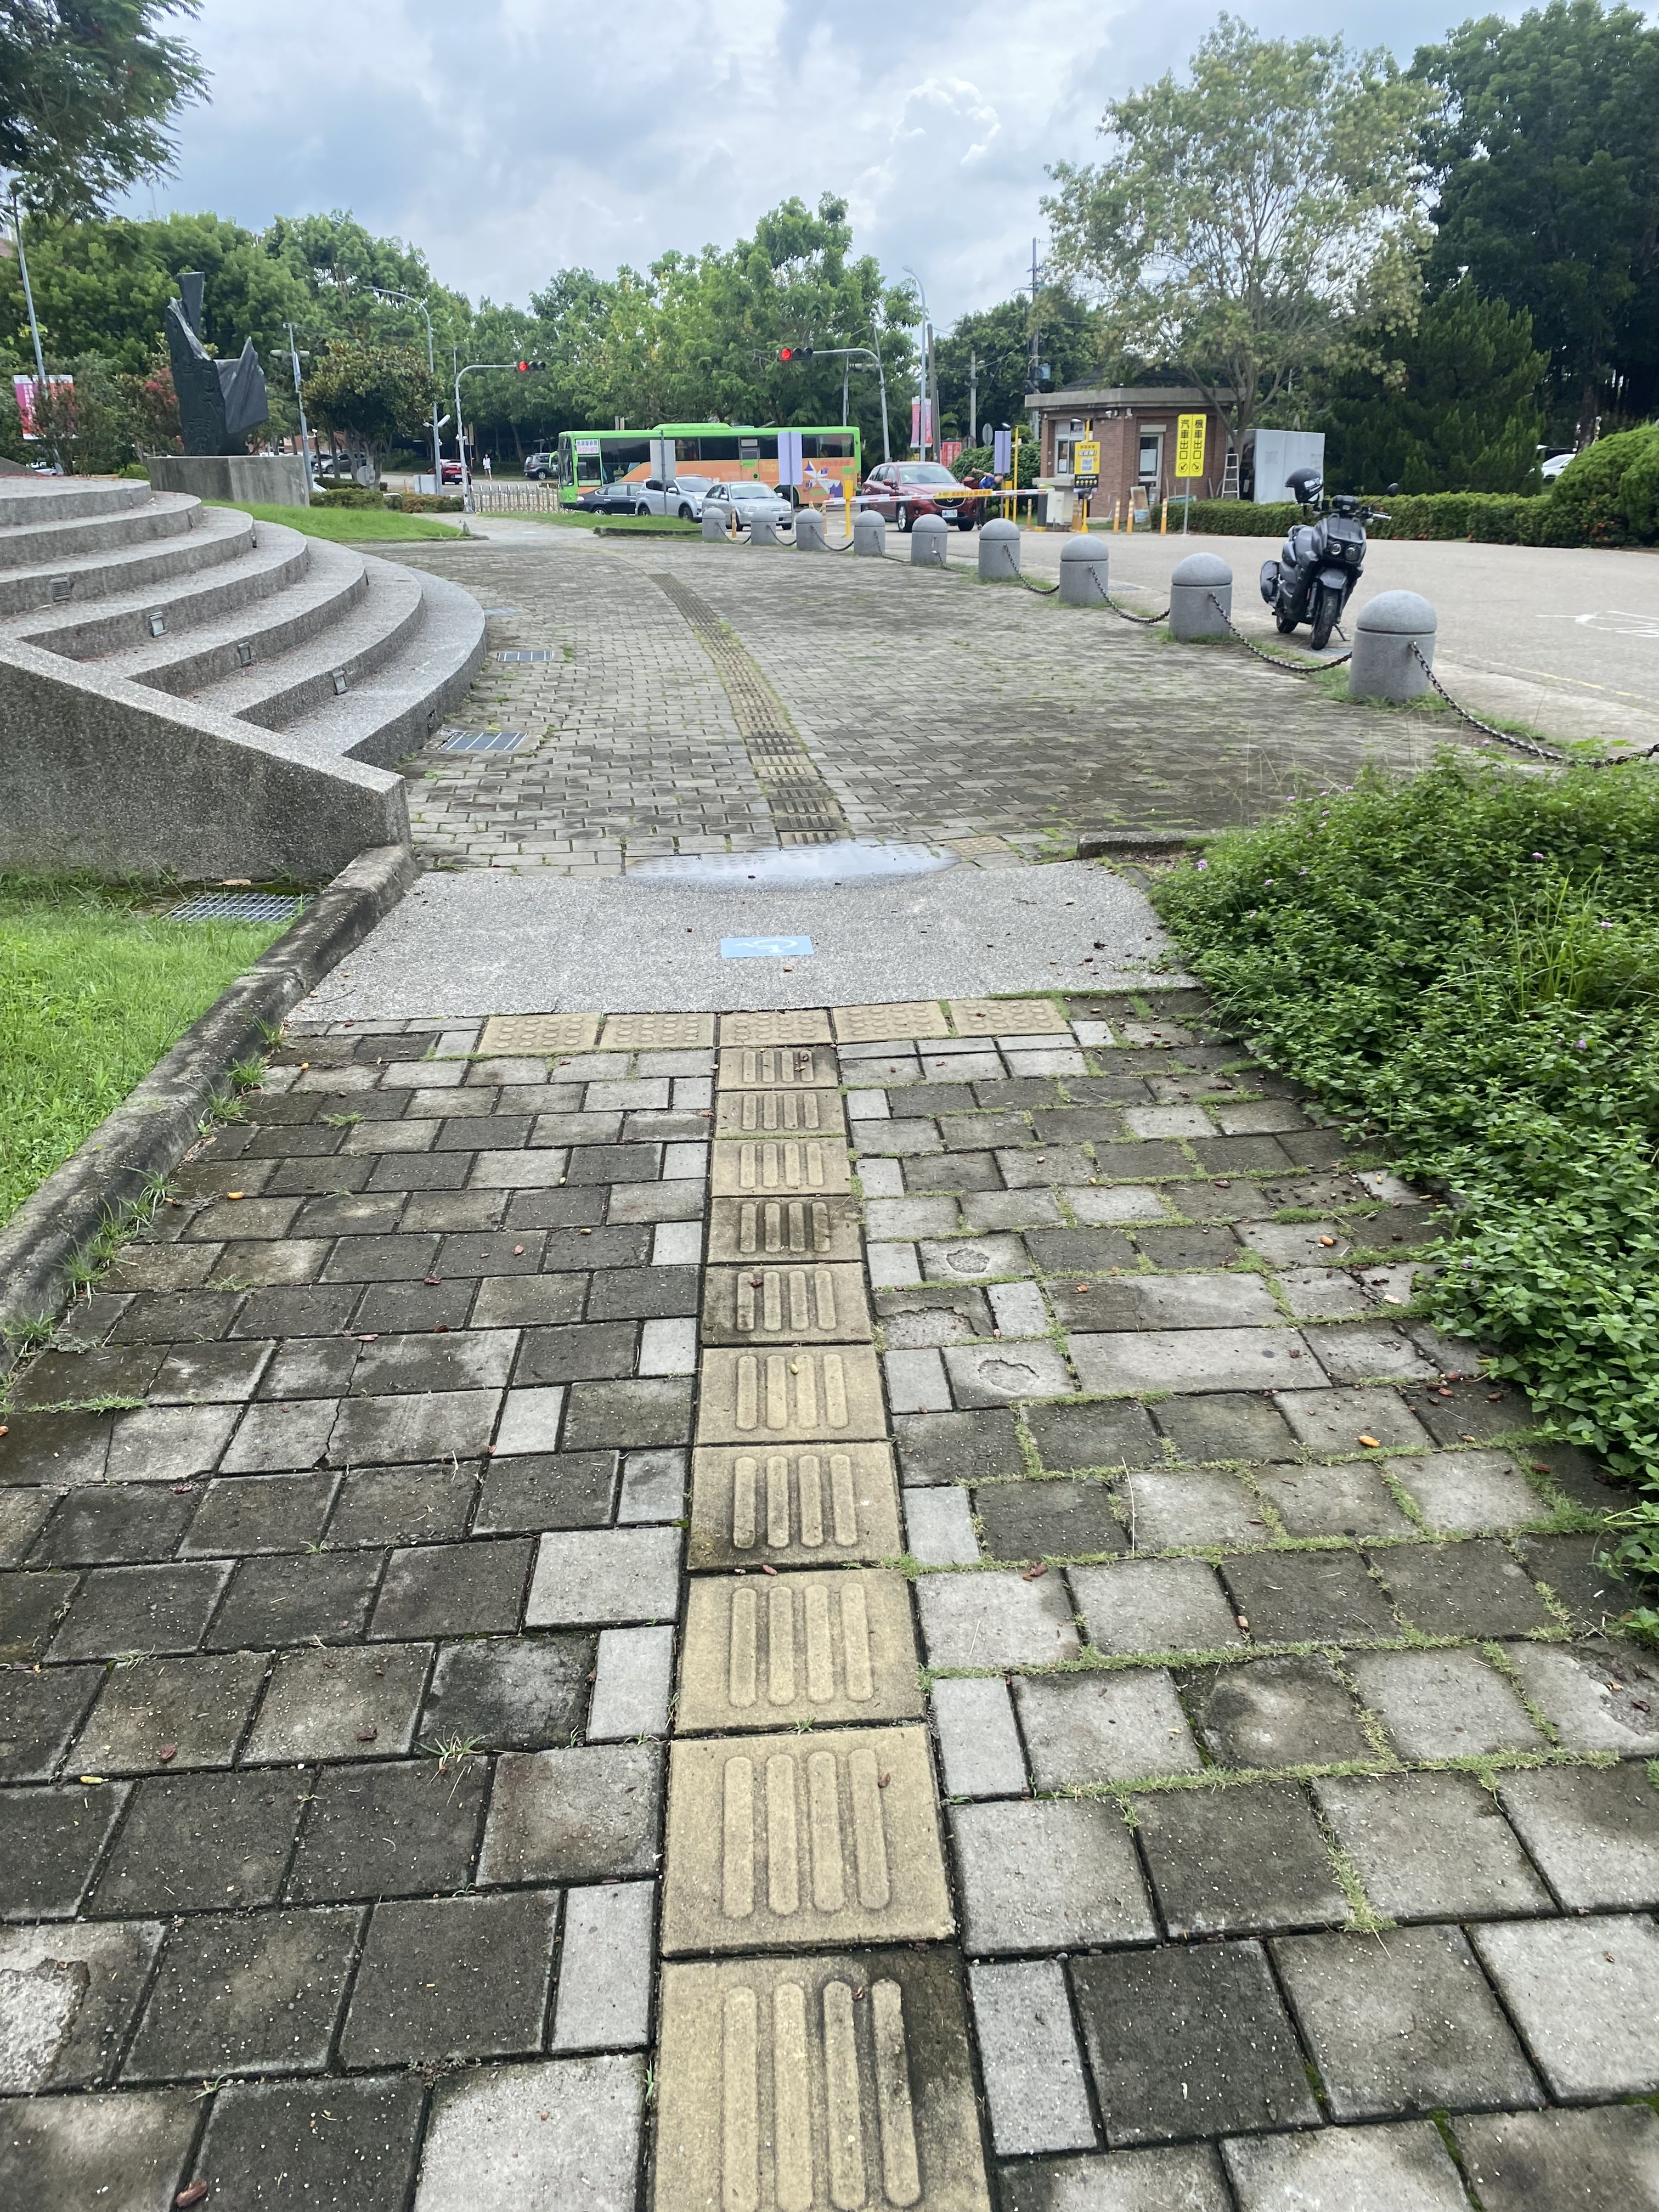0: (7, 907, 1659, 2212)
sidewalk: (289, 505, 1427, 1172)
